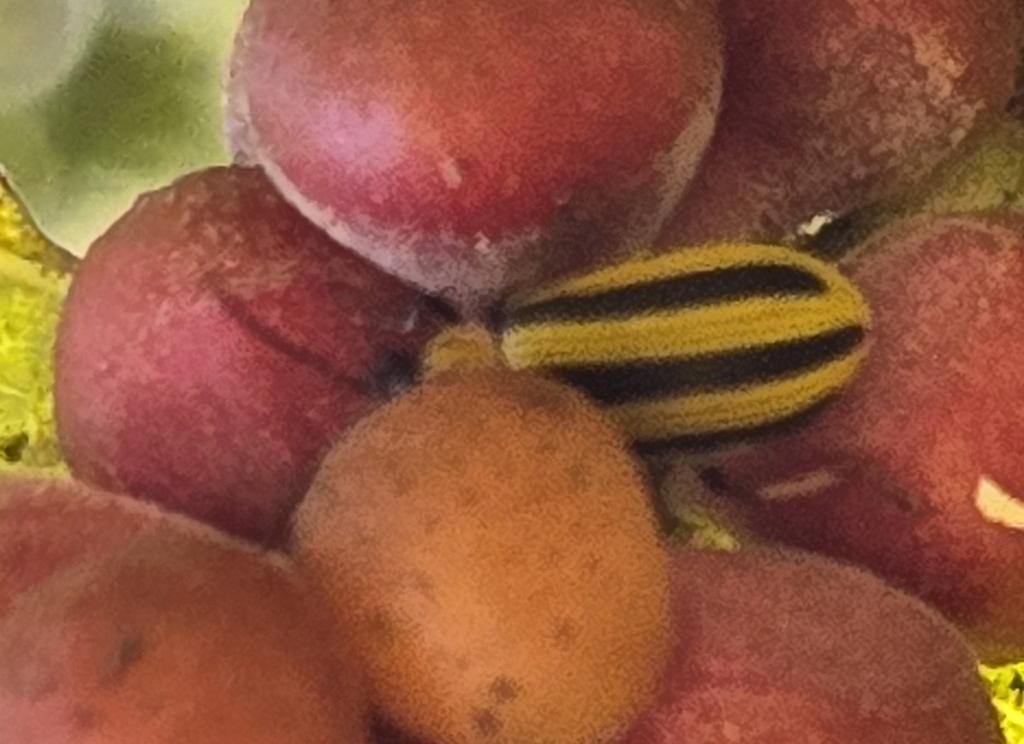potato_beetle: (322, 194, 912, 542)
